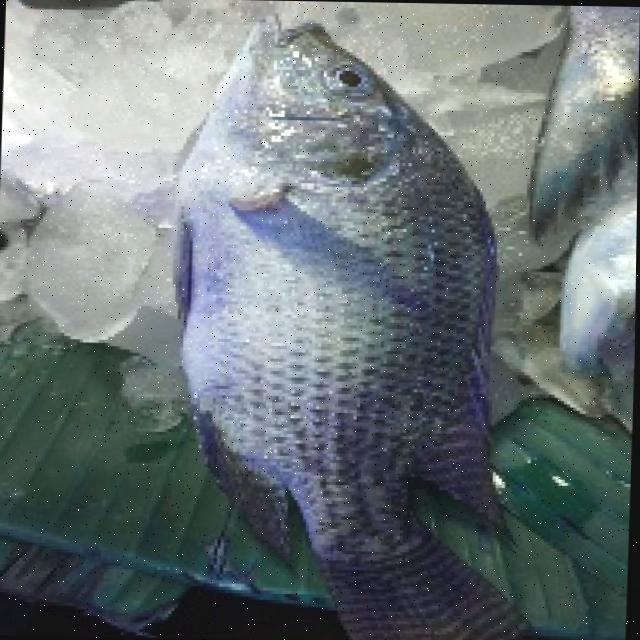Fresh: (149, 0, 509, 543)
